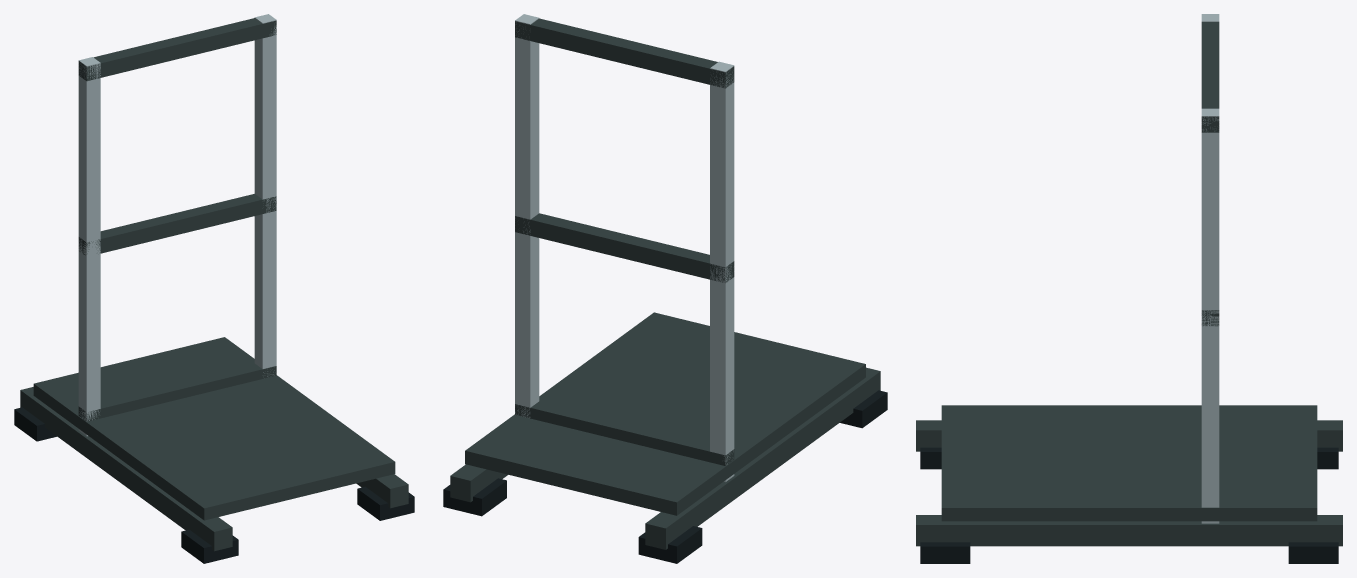
Rendered from cooling-bracket.glb.
3 views of the same model, side by side, from view 1: azimuth 30°, elevation 25°; view 2: azimuth 150°, elevation 25°; view 3: azimuth 270°, elevation 25° (orthographic). The views are drawn at different scales.
Parts seen in each view (by area): view 1: Anodized graphite, Brushed aluminium, Rubber and ABS; view 2: Anodized graphite, Brushed aluminium, Rubber and ABS; view 3: Anodized graphite, Brushed aluminium, Rubber and ABS.
Boxes of the visible parts, x1,y1,x2,y2 form: Anodized graphite: (20,18,408,551); Brushed aluminium: (78,14,276,436); Rubber and ABS: (14,407,414,563); Anodized graphite: (450,18,880,549); Brushed aluminium: (515,14,734,482); Rubber and ABS: (443,390,887,563); Anodized graphite: (916,22,1342,546); Brushed aluminium: (1201,14,1219,523); Rubber and ABS: (920,447,1338,563).
Size of the model in its own units: 1.82 by 3.32 by 2.9.
